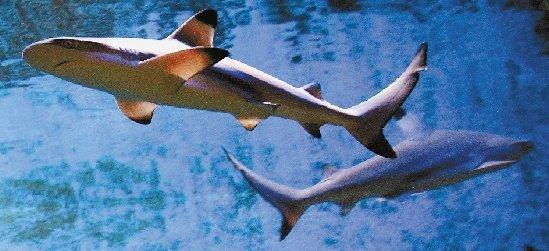fish: (21, 6, 424, 159), (218, 119, 534, 224)
